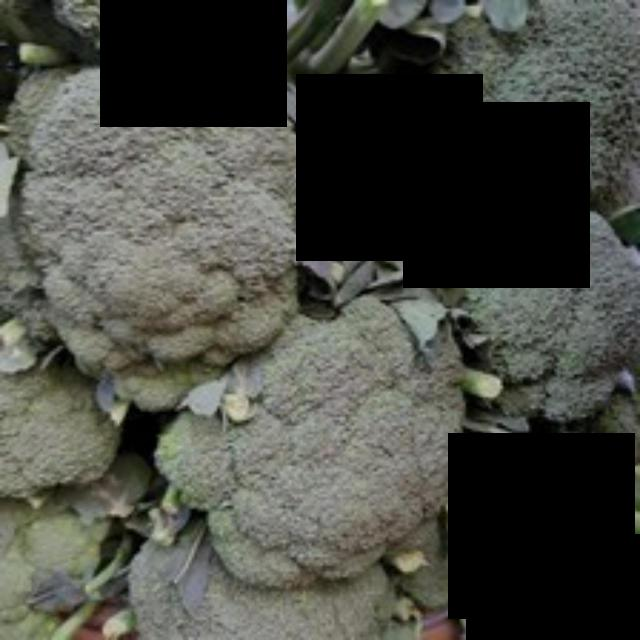broccoli: (0, 52, 317, 406)
